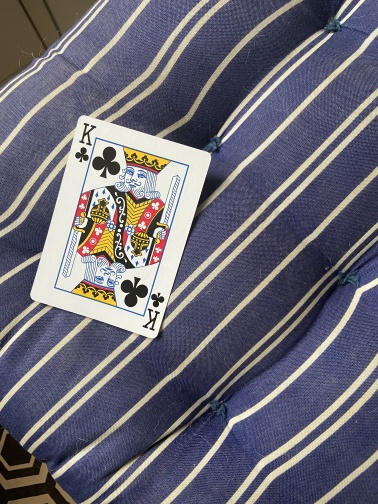king: (28, 114, 213, 340)
